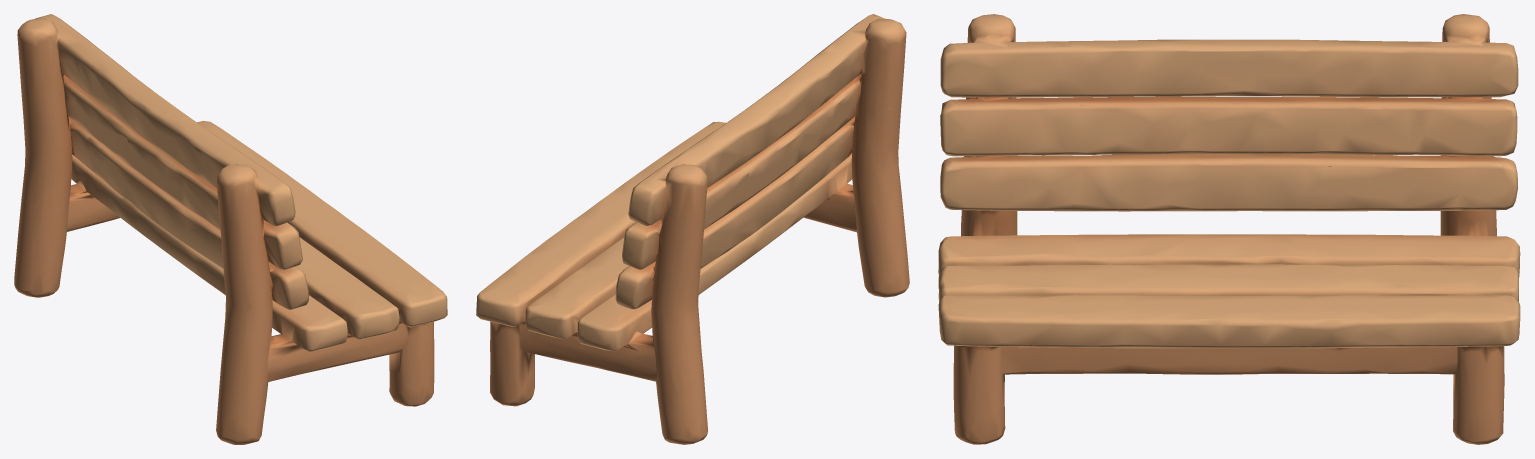
File: bench.glb
The picture shows the model from 3 angles, left to right: view 1: azimuth 30°, elevation 25°; view 2: azimuth 150°, elevation 25°; view 3: azimuth 270°, elevation 25°; orthographic projection. The views are drawn at different scales.
Visible parts, largest first — view 1: tripo_node_8038d86b-642c-41b4-8e07-bf71bafada48; view 2: tripo_node_8038d86b-642c-41b4-8e07-bf71bafada48; view 3: tripo_node_8038d86b-642c-41b4-8e07-bf71bafada48.
Part boxes in pixels (x1,y1,x2,y2): tripo_node_8038d86b-642c-41b4-8e07-bf71bafada48: (14, 14, 447, 444); tripo_node_8038d86b-642c-41b4-8e07-bf71bafada48: (476, 14, 909, 444); tripo_node_8038d86b-642c-41b4-8e07-bf71bafada48: (938, 14, 1520, 444).
Size of the model in its own units: 0.5137 by 0.6118 by 1.
Materials: 1 (1 with a texture image).
